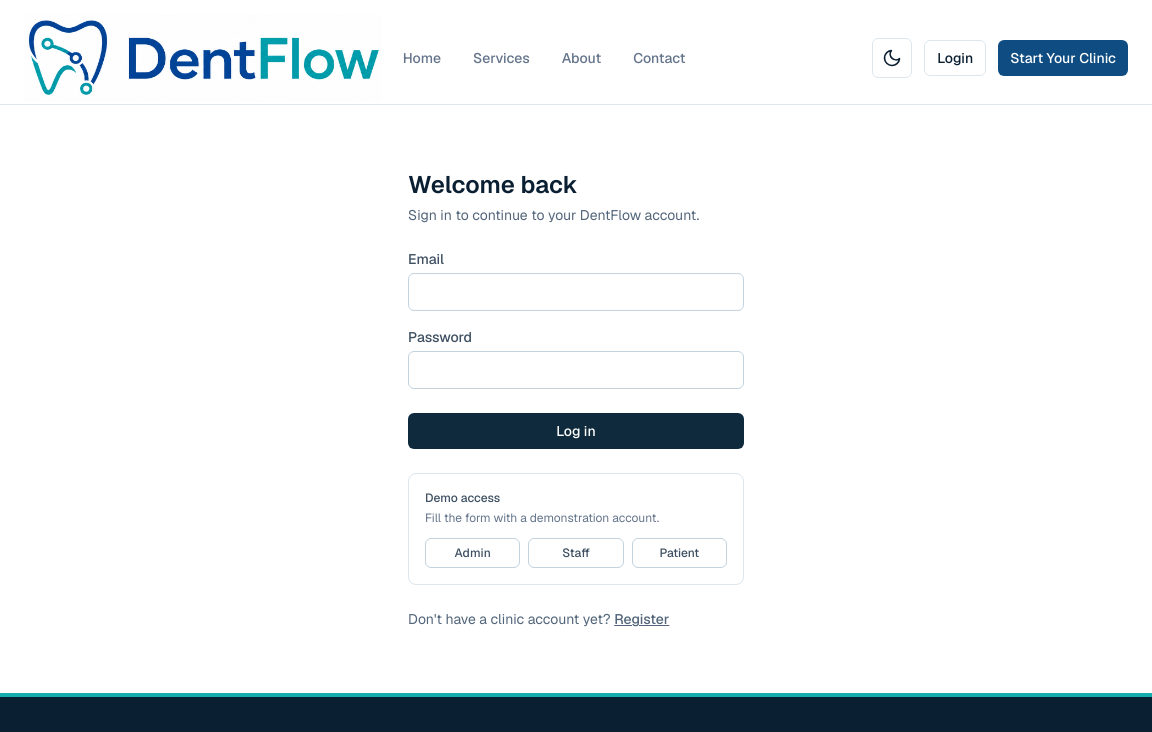
Login page › fills the expected credentials for the Patient demo button
Step 1. Click the button "Patient" → (679, 553), box [632,538,727,568]
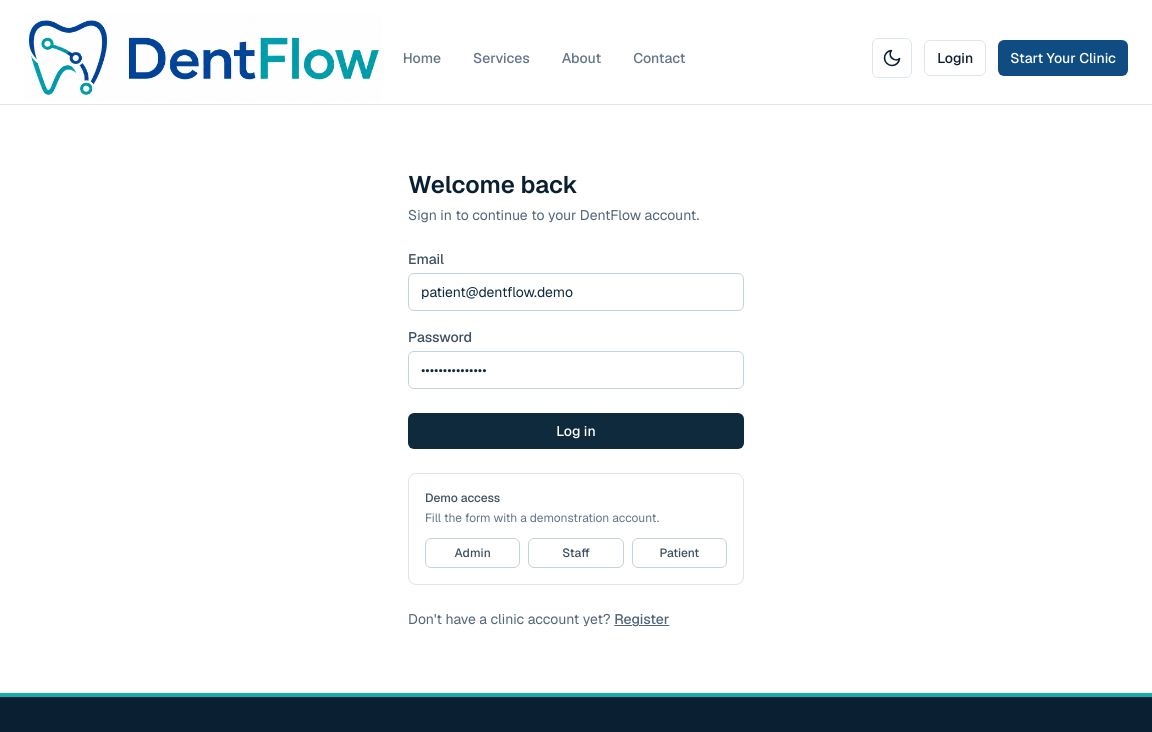
Expected: the field labelled "Email" holds "patient@dentflow.demo", [408,273,744,311]
Expected: the password field labelled "Password" holds "DemoPatient123!", [408,351,744,389]
